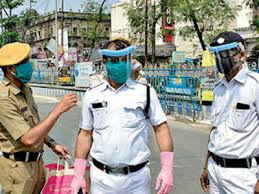mask: (208, 31, 247, 78), (1, 50, 37, 87), (104, 46, 132, 88)
